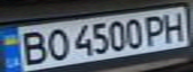0: (106, 18, 130, 52), (124, 16, 145, 48)
4: (72, 21, 93, 57)
5: (90, 20, 112, 55)
B: (15, 28, 51, 67)
H: (160, 9, 190, 43)
O: (42, 26, 72, 61)
P: (142, 12, 172, 46)
